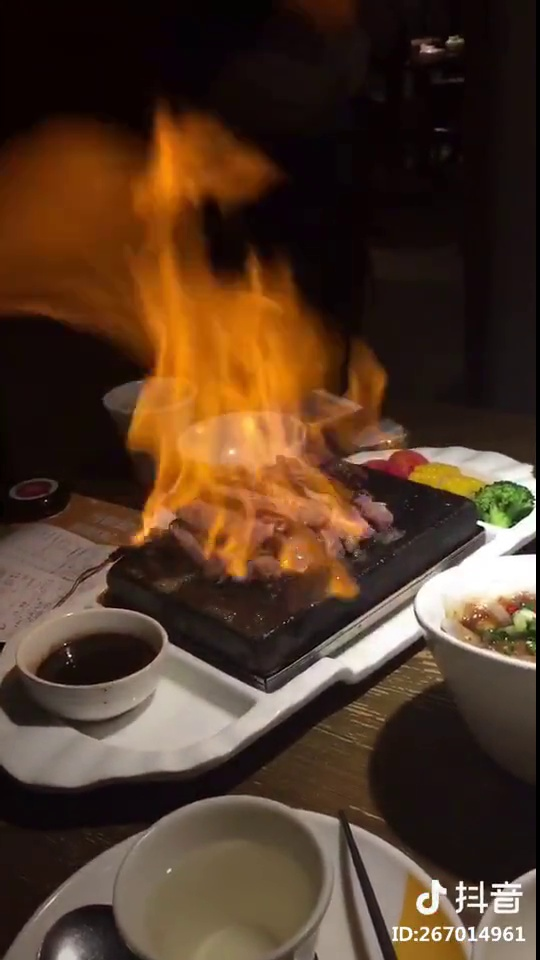fire: (51, 115, 382, 466)
